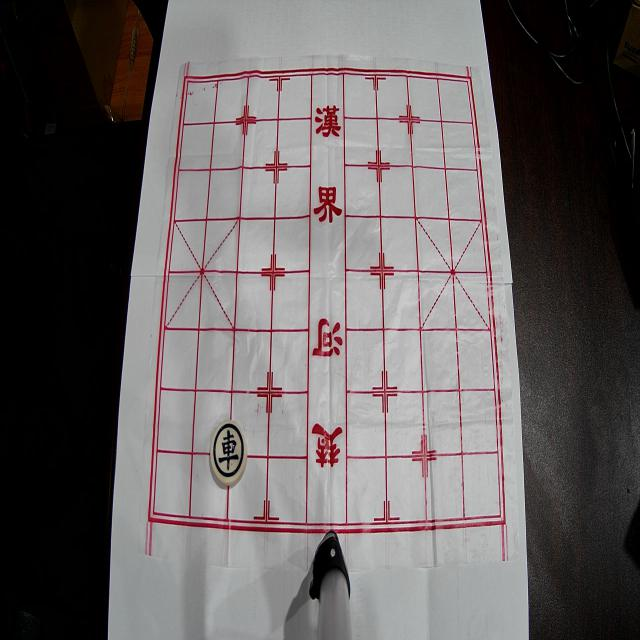black-chariot: (210, 420, 248, 486)
